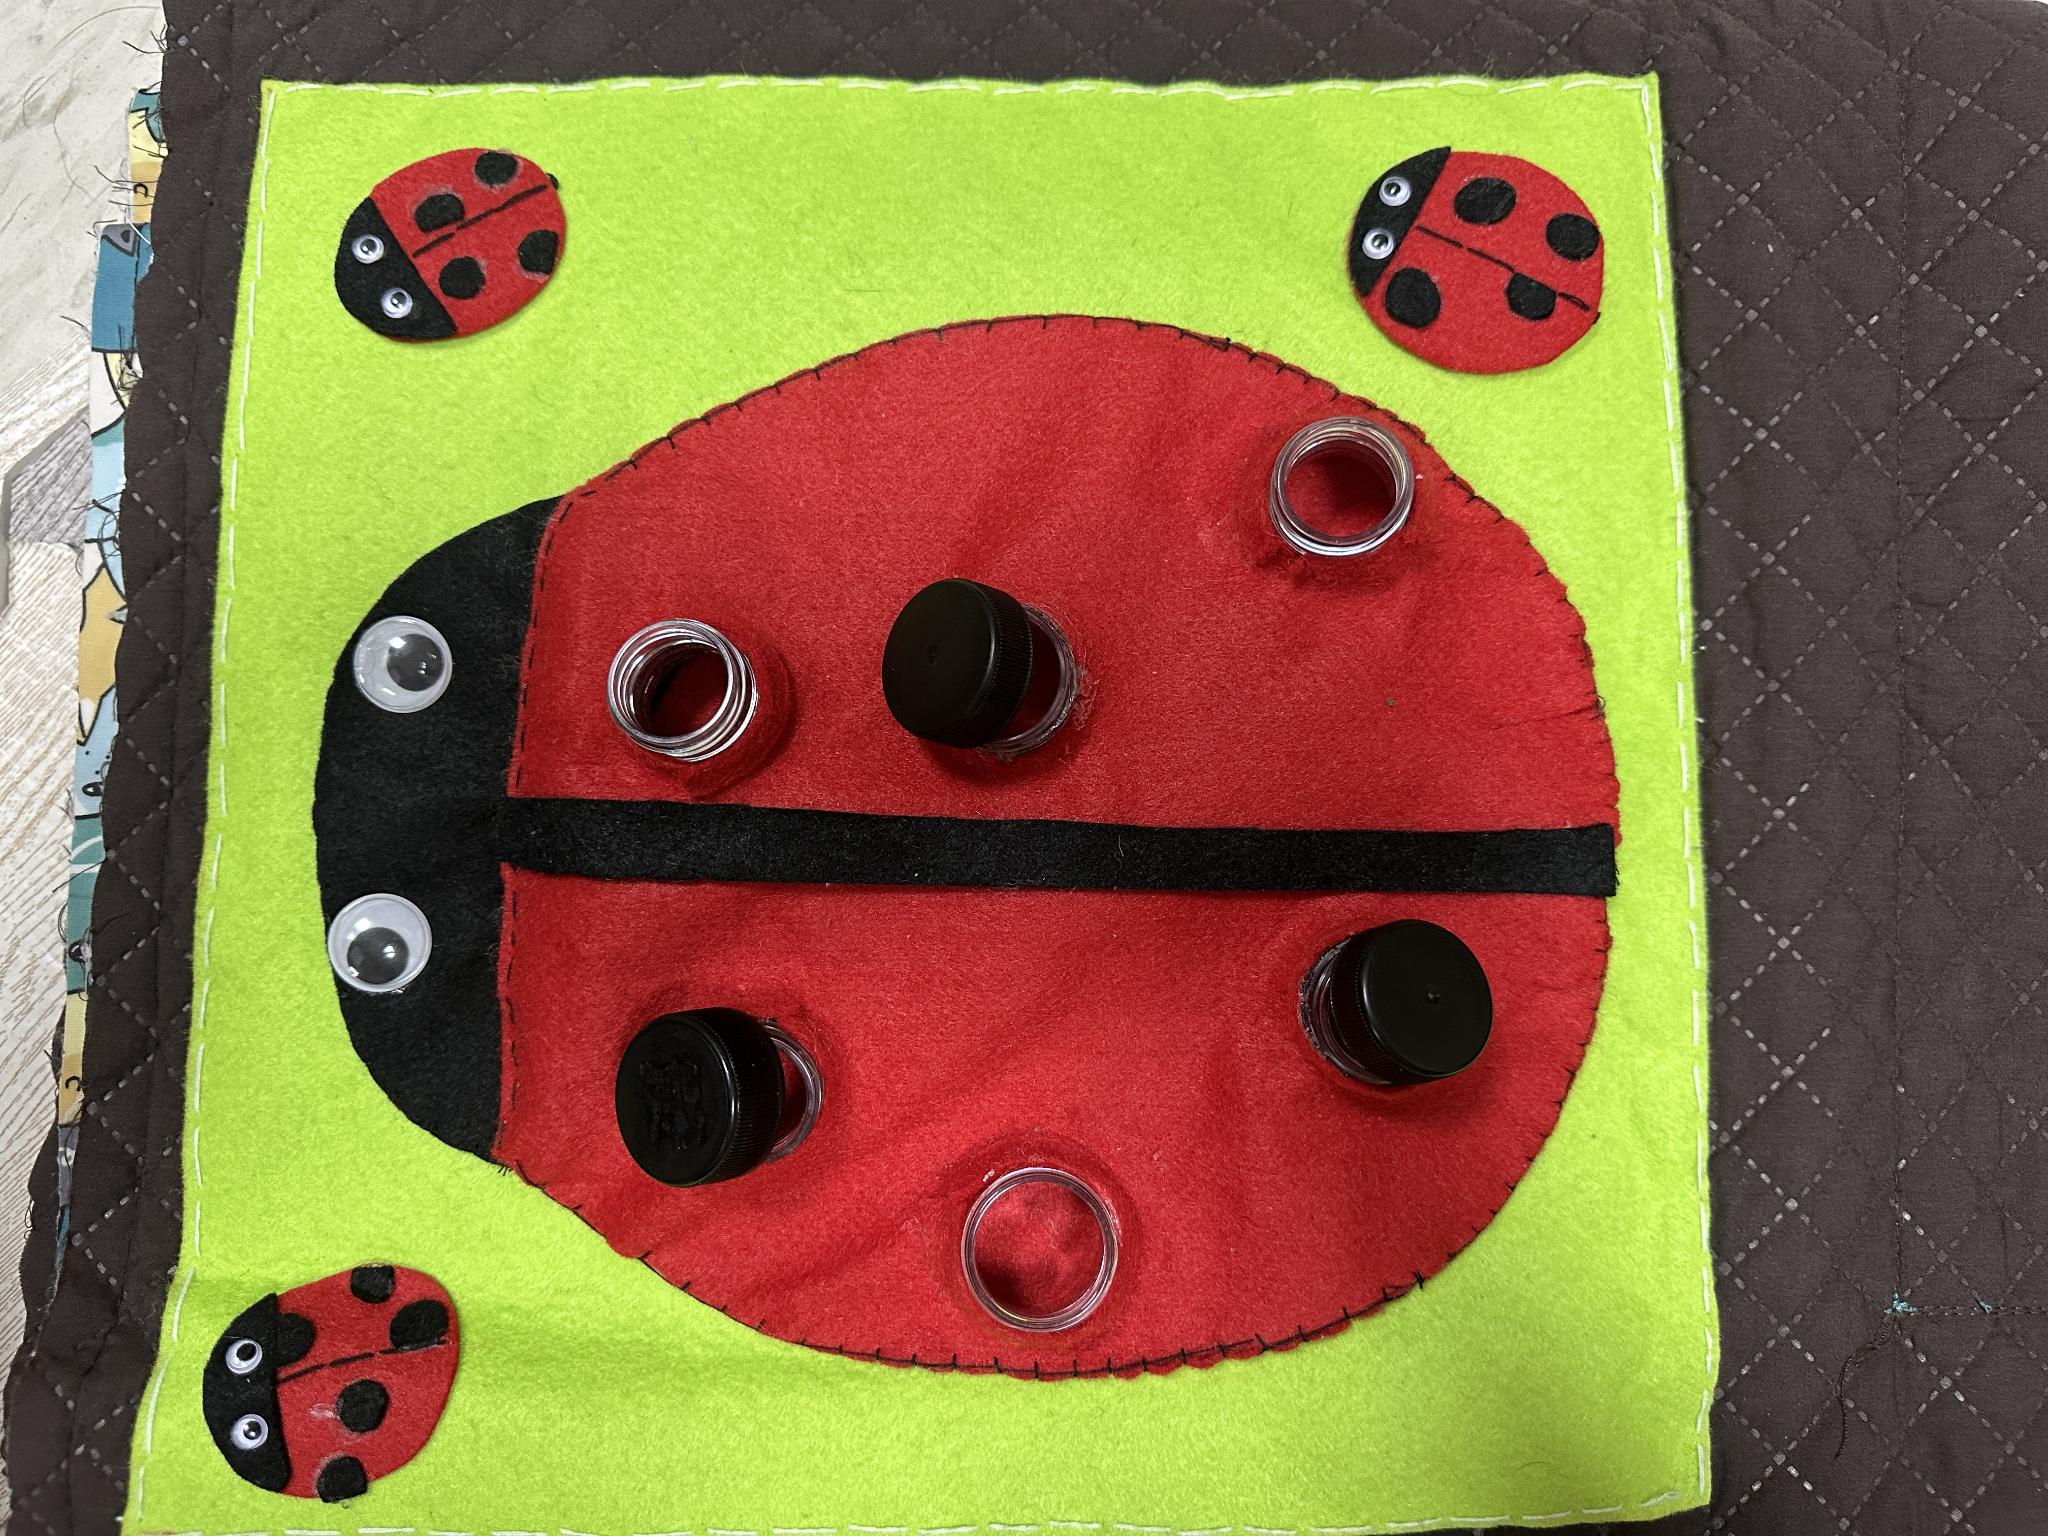cap_ng: (869, 542, 1129, 805), (603, 976, 871, 1218), (1280, 905, 1514, 1147)
